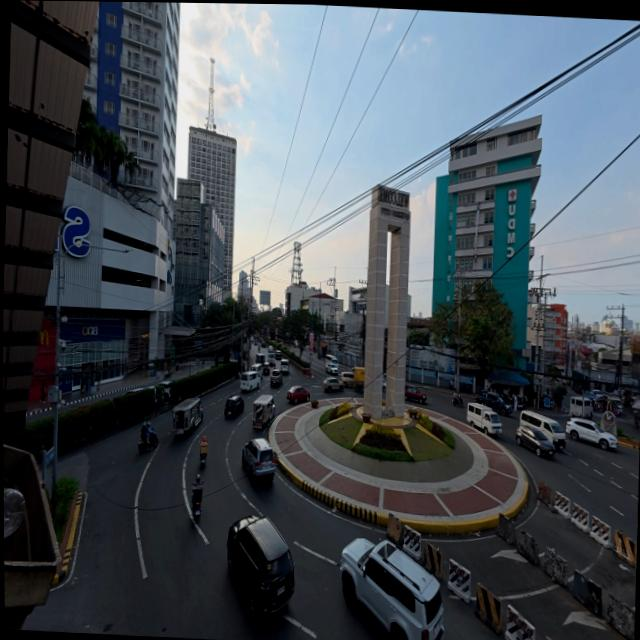Jeepneys: (172, 398, 201, 436), (252, 395, 275, 428)
car: (340, 539, 443, 639), (226, 516, 293, 620), (565, 417, 617, 450), (241, 438, 274, 481), (515, 426, 554, 456), (476, 391, 512, 415), (223, 395, 243, 416), (404, 385, 426, 403), (286, 386, 309, 403), (605, 396, 621, 415), (322, 378, 342, 393), (158, 380, 170, 401), (269, 368, 282, 387), (339, 371, 354, 386), (500, 393, 513, 409), (325, 363, 337, 375), (280, 359, 288, 374), (591, 390, 602, 400), (274, 349, 282, 360), (263, 363, 269, 376), (268, 353, 274, 366), (382, 376, 386, 392), (260, 341, 267, 347), (293, 340, 298, 347), (268, 346, 273, 353), (639, 420, 640, 434)
motorcycle: (137, 431, 156, 453), (192, 497, 201, 520), (459, 383, 472, 393), (452, 394, 462, 406), (199, 453, 205, 467), (633, 413, 639, 427), (164, 368, 171, 378)
trucks: (352, 368, 364, 389)
vans: (519, 411, 564, 448), (466, 404, 501, 434), (569, 396, 591, 419), (240, 372, 259, 392), (250, 363, 262, 379), (325, 355, 337, 366), (280, 359, 288, 374), (268, 353, 274, 365)
